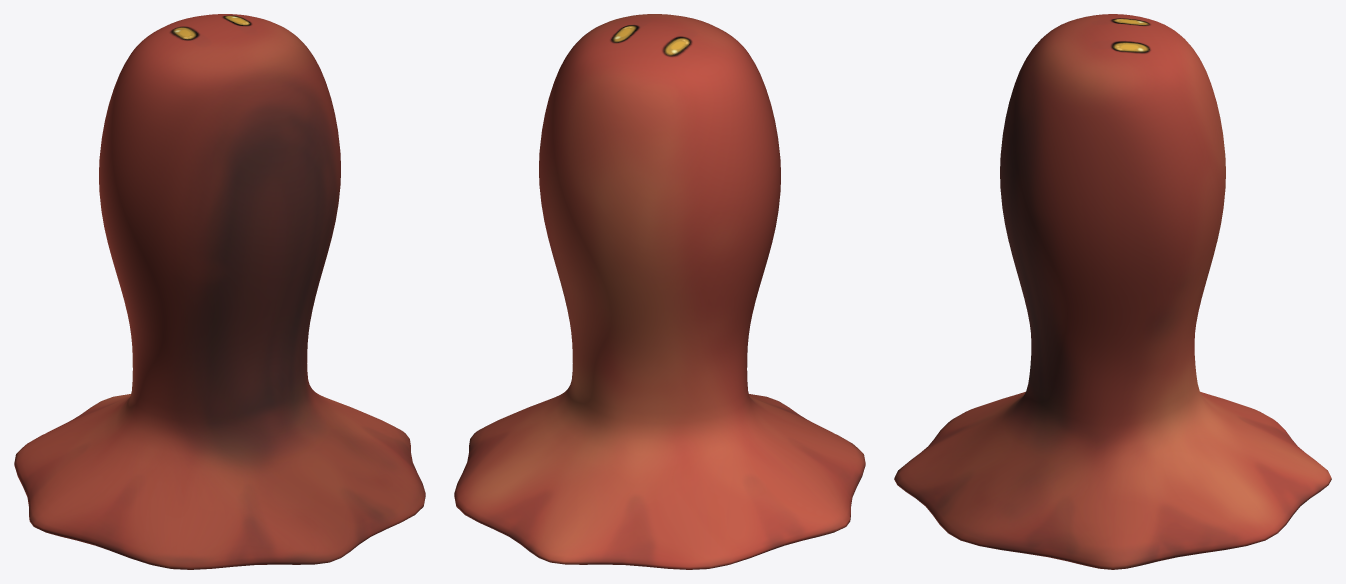
The model's file is Smile B 03.fbx.
The picture shows the model from 3 angles, left to right: view 1: azimuth 30°, elevation 25°; view 2: azimuth 150°, elevation 25°; view 3: azimuth 270°, elevation 25°; orthographic projection.
Parts seen in each view (by area): view 1: Cube.009; view 2: Cube.009; view 3: Cube.009.
Boxes of the visible parts, box(x1,y1,x2,y2) form: Cube.009: box(14, 14, 425, 569); Cube.009: box(454, 14, 865, 569); Cube.009: box(894, 14, 1331, 569).
Bounding box in the file's own units: 276 × 323 × 283.
